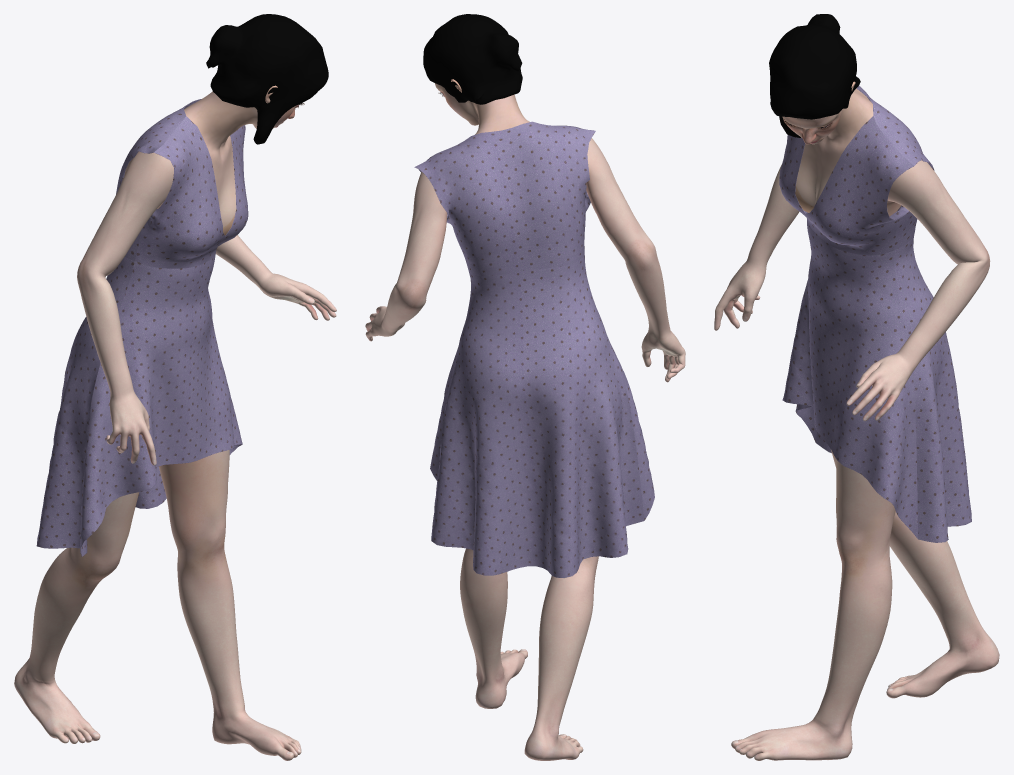
Rendered from Custom_View_3__random.obj.
The picture shows the model from 3 angles, left to right: view 1: azimuth 30°, elevation 25°; view 2: azimuth 150°, elevation 25°; view 3: azimuth 270°, elevation 25°; orthographic projection. The views are drawn at different scales.
Size of the model in its own units: 696 by 1681 by 585.
